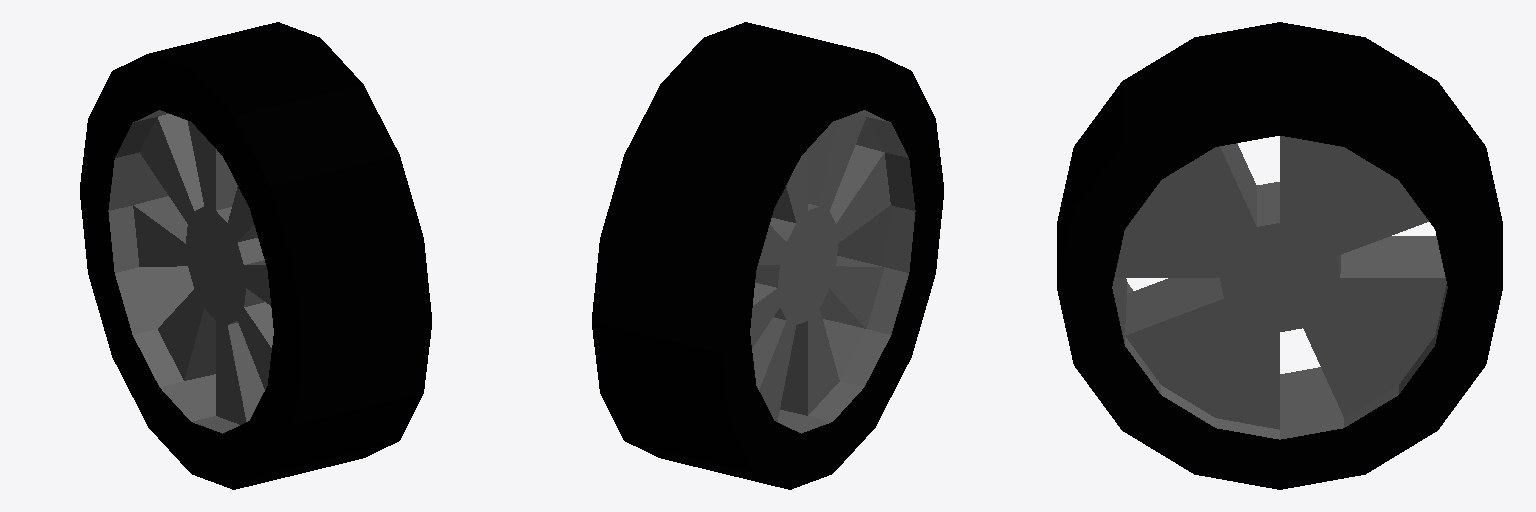
File: wheel.obj
3 views of the same model, side by side, from view 1: azimuth 30°, elevation 25°; view 2: azimuth 150°, elevation 25°; view 3: azimuth 270°, elevation 25° (orthographic).
Visible parts, largest first — view 1: wheel; view 2: wheel; view 3: wheel.
Boxes of the visible parts, <box> form: wheel: <box>80,22,431,489</box>; wheel: <box>592,22,943,489</box>; wheel: <box>1057,22,1502,489</box>.
Bounding box in the file's own units: 0.2129 × 0.6351 × 0.6351.